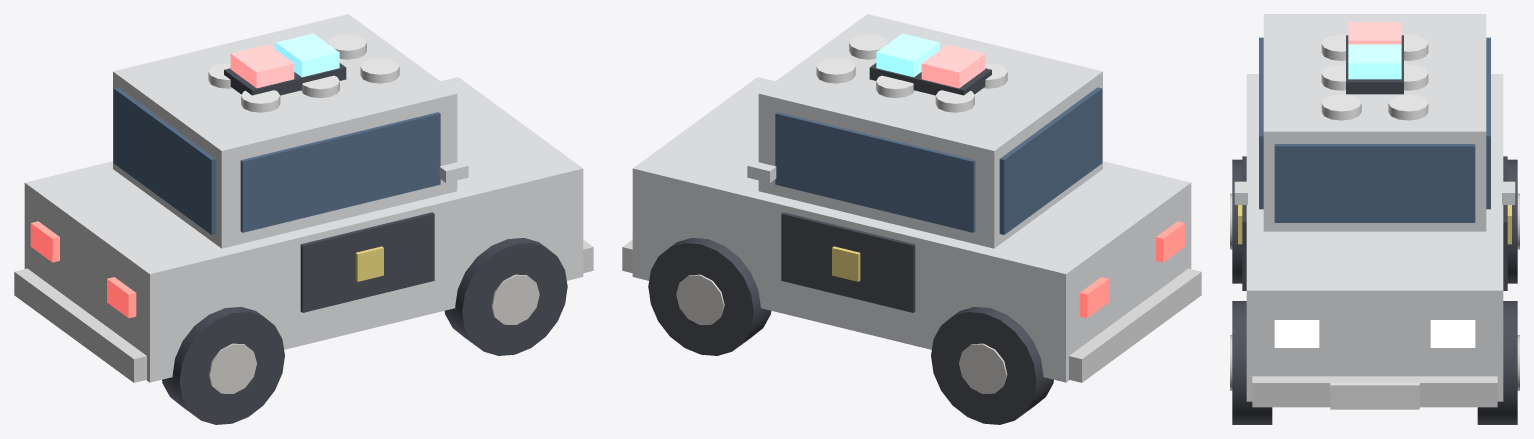
File: car-police.glb
The picture shows the model from 3 angles, left to right: view 1: azimuth 30°, elevation 25°; view 2: azimuth 150°, elevation 25°; view 3: azimuth 270°, elevation 25°; orthographic projection. The views are drawn at different scales.
Bounding box in the file's own units: 2.47 × 1.47 × 1.3.
